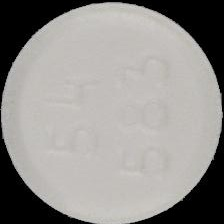0615-7938: (0, 0, 224, 224)
